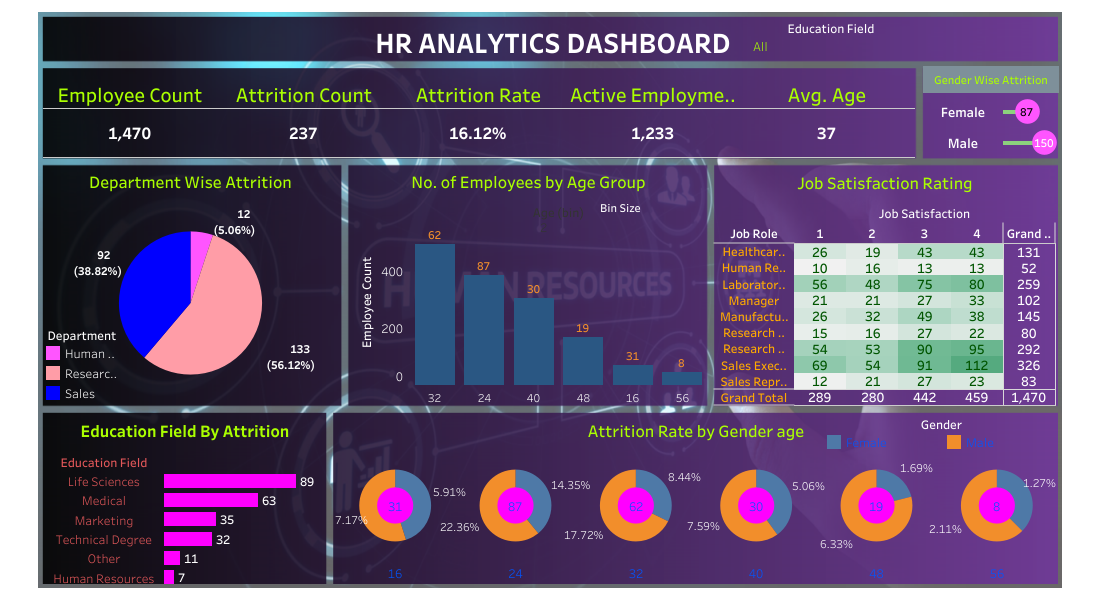

Layout of this report page (visuals, bound fields, positions):
{"tool":"tableau","page":{"name":"Dashboard 1","canvas":[1000,1000],"units":"permille","ordinal":0},"visuals":[{"type":"image","param":"Image/HR background.tif","box":[7.3,13.3,985.5,973.3]},{"type":"filter","title":"Department Wise Attrition ","param":"[federated.06h9wd610u7i7a1219ttp1rq9fzl].[none:EducationField:nk]","box":[682.7,30,145.5,70]},{"type":"text","box":[42.7,45,920,50]},{"type":"worksheet","title":"Gender Wise Attrition","mark":"Automatic","rows":["Gender"],"cols":["Calculation_1465077304035659776","Calculation_1465077304035659776"],"box":[839.1,110,123.6,153.3]},{"type":"worksheet","title":"KPI","mark":"Automatic","box":[39.1,113.3,792.7,150]},{"type":"worksheet","title":"Department Wise Attrition ","mark":"Pie","box":[39.1,273.3,268.2,400]},{"type":"worksheet","title":"No. of Employees by Age Group ","mark":"Automatic","rows":["EmployeeCount"],"cols":["Age (bin)"],"box":[318.2,273.3,324.6,403.3]},{"type":"worksheet","title":"Job Satisfaction Rating","mark":"Square","rows":["JobRole"],"cols":["JobSatisfaction"],"box":[649.1,275,310.9,401.7]},{"type":"parameter","param":"[Parameters].[Parameter 1]","box":[489.1,331.7,150,65]},{"type":"legend","title":"Department Wise Attrition ","param":"[federated.06h9wd610u7i7a1219ttp1rq9fzl].[none:Department:nk]","box":[39.1,540,69.1,128.3]},{"type":"worksheet","title":"Education Field By Attrition","mark":"Bar","rows":["EducationField"],"cols":["Calculation_1465077304035659776"],"box":[40,688.3,256.4,290]},{"type":"worksheet","title":"Attrition Rate by Gender age ","mark":"Pie","rows":["Calculation_1465077306309824517","Calculation_1465077306309824517"],"cols":["Age (bin)"],"box":[304.6,688.3,656.4,281.7]},{"type":"legend","title":"Attrition Rate by Gender age ","param":"[federated.06h9wd610u7i7a1219ttp1rq9fzl].[none:Gender:nk]","box":[749.1,688.3,211.8,70]}]}

Visuals, with their boxes on the dashboard's canvas, which has no fixed pixel size, in thousandths of its width and height (x1, y1, x2, y2). These are canvas units, not pixel positions in the 1099x599 screenshot, which may show the page scaled, cropped or inside an application window:
image: 7 13 993 987
"Department Wise Attrition " filter: 683 30 828 100
text: 43 45 963 95
"Gender Wise Attrition" worksheet: 839 110 963 263
"KPI" worksheet: 39 113 832 263
"Department Wise Attrition " worksheet (Pie marks): 39 273 307 673
"No. of Employees by Age Group " worksheet: 318 273 643 677
"Job Satisfaction Rating" worksheet (Square marks): 649 275 960 677
parameter: 489 332 639 397
"Department Wise Attrition " legend: 39 540 108 668
"Education Field By Attrition" worksheet (Bar marks): 40 688 296 978
"Attrition Rate by Gender age " worksheet (Pie marks): 305 688 961 970
"Attrition Rate by Gender age " legend: 749 688 961 758
